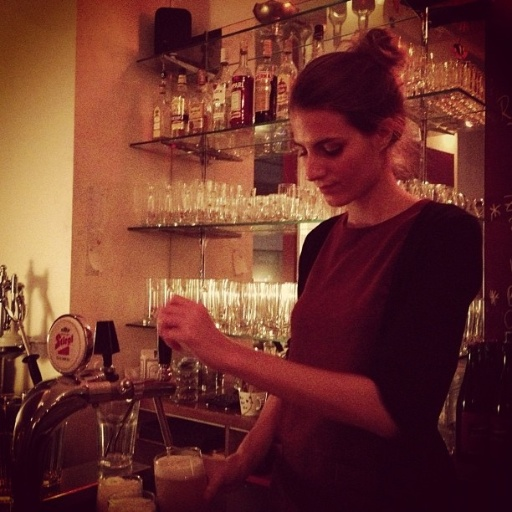hand: (149, 303, 215, 376), (183, 453, 240, 509)
